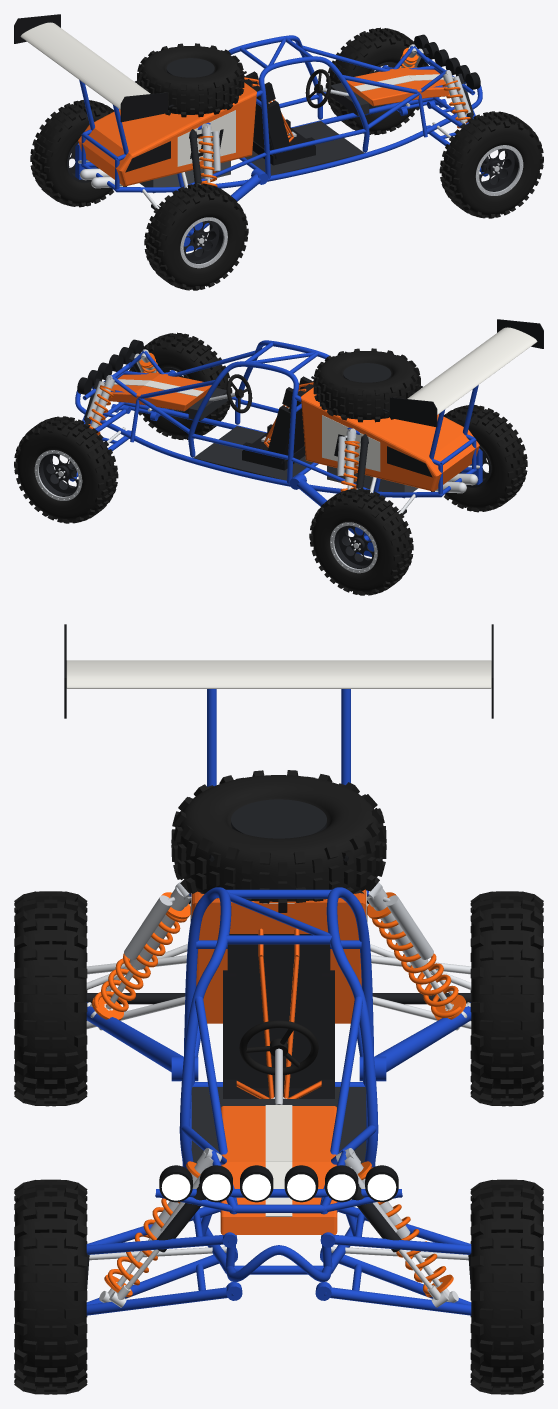
The model's file is trophy_buggy.glb.
3 renders of one model, top to bottom at view 1: azimuth 30°, elevation 25°; view 2: azimuth 150°, elevation 25°; view 3: azimuth 270°, elevation 25°, orthographic. The views are drawn at different scales.
Visible parts, largest first — view 1: tube_chassis, hood_and_engine_cover, wheel_RR_tyre, wheel_FR_tyre, spare_tyre_rubber, wheel_RL_tyre, rear_wing, wheel_FL_tyre, floor_dash, seat_driver_shell, graphics_white, rear_wing_endplates (+16 smaller); view 2: tube_chassis, hood_and_engine_cover, wheel_RL_tyre, wheel_FL_tyre, spare_tyre_rubber, wheel_RR_tyre, rear_wing, wheel_FR_tyre, floor_dash, seat_driver_shell, graphics_white, rear_wing_endplates (+16 smaller); view 3: tube_chassis, spare_tyre_rubber, wheel_FR_tyre, wheel_FL_tyre, wheel_RR_tyre, wheel_RL_tyre, hood_and_engine_cover, seat_driver_shell, rear_wing, light_bank_lenses, floor_dash, spare_tyre_rim (+18 smaller).
Part boxes in pixels (x1=…): tube_chassis: x1=79, y1=35, x2=482, y2=192; hood_and_engine_cover: x1=78, y1=67, x2=449, y2=186; wheel_RR_tyre: x1=144, y1=183, x2=248, y2=290; wheel_FR_tyre: x1=439, y1=111, x2=543, y2=218; spare_tyre_rubber: x1=137, y1=43, x2=244, y2=117; wheel_RL_tyre: x1=30, y1=100, x2=114, y2=207; rear_wing: x1=20, y1=22, x2=150, y2=109; wheel_FL_tyre: x1=325, y1=27, x2=428, y2=134; floor_dash: x1=245, y1=82, x2=369, y2=175; seat_driver_shell: x1=244, y1=71, x2=315, y2=165; graphics_white: x1=177, y1=74, x2=443, y2=166; rear_wing_endplates: x1=14, y1=14, x2=167, y2=122; tube_chassis: x1=75, y1=340, x2=478, y2=497; hood_and_engine_cover: x1=108, y1=372, x2=479, y2=491; wheel_RL_tyre: x1=309, y1=488, x2=413, y2=595; wheel_FL_tyre: x1=14, y1=416, x2=118, y2=523; spare_tyre_rubber: x1=313, y1=348, x2=420, y2=422; wheel_RR_tyre: x1=443, y1=405, x2=527, y2=512; rear_wing: x1=407, y1=327, x2=537, y2=414; wheel_FR_tyre: x1=129, y1=332, x2=232, y2=439; floor_dash: x1=188, y1=387, x2=312, y2=480; seat_driver_shell: x1=242, y1=376, x2=313, y2=470; graphics_white: x1=114, y1=379, x2=380, y2=471; rear_wing_endplates: x1=390, y1=319, x2=543, y2=427; tube_chassis: x1=155, y1=689, x2=402, y2=1282; spare_tyre_rubber: x1=171, y1=770, x2=386, y2=912; wheel_FR_tyre: x1=14, y1=1179, x2=87, y2=1394; wheel_FL_tyre: x1=470, y1=1179, x2=543, y2=1394; wheel_RR_tyre: x1=14, y1=891, x2=87, y2=1106; wheel_RL_tyre: x1=470, y1=891, x2=543, y2=1106; hood_and_engine_cover: x1=191, y1=889, x2=366, y2=1234; seat_driver_shell: x1=223, y1=934, x2=334, y2=1098; rear_wing: x1=66, y1=660, x2=491, y2=688; light_bank_lenses: x1=161, y1=1174, x2=396, y2=1200; floor_dash: x1=191, y1=1087, x2=366, y2=1163; spare_tyre_rim: x1=231, y1=799, x2=326, y2=838.
Bounding box in the file's own units: 4.27 × 2 × 2.37.
